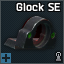Glock Dead Ringer Snake Eye rear sight: (0, 0, 64, 64)
